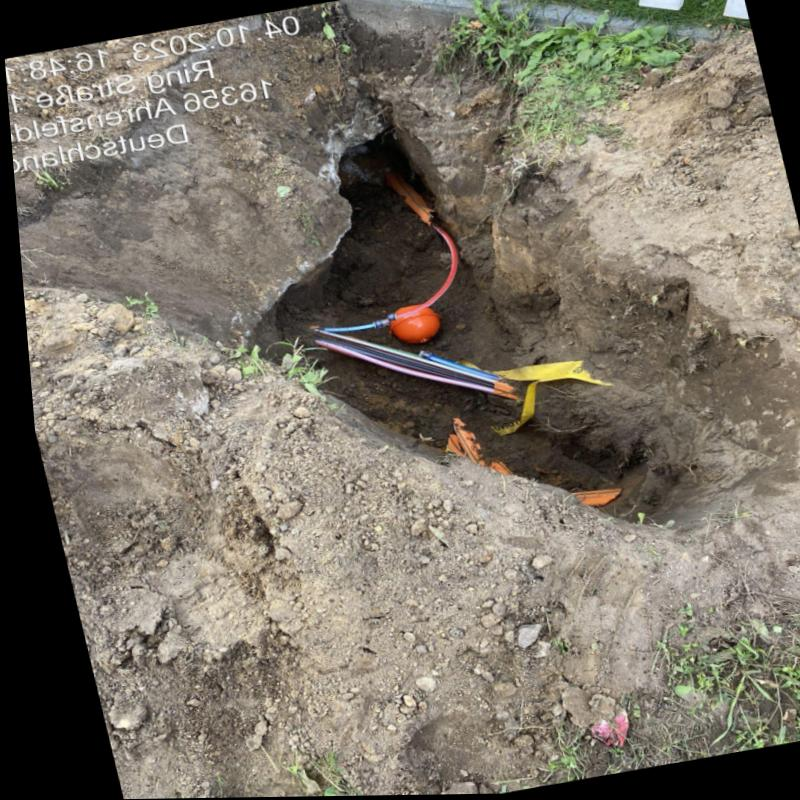Kugelmarker: (384, 306, 432, 342)
Orang-Speednetrohrchen: (438, 419, 498, 474), (385, 174, 428, 223)
